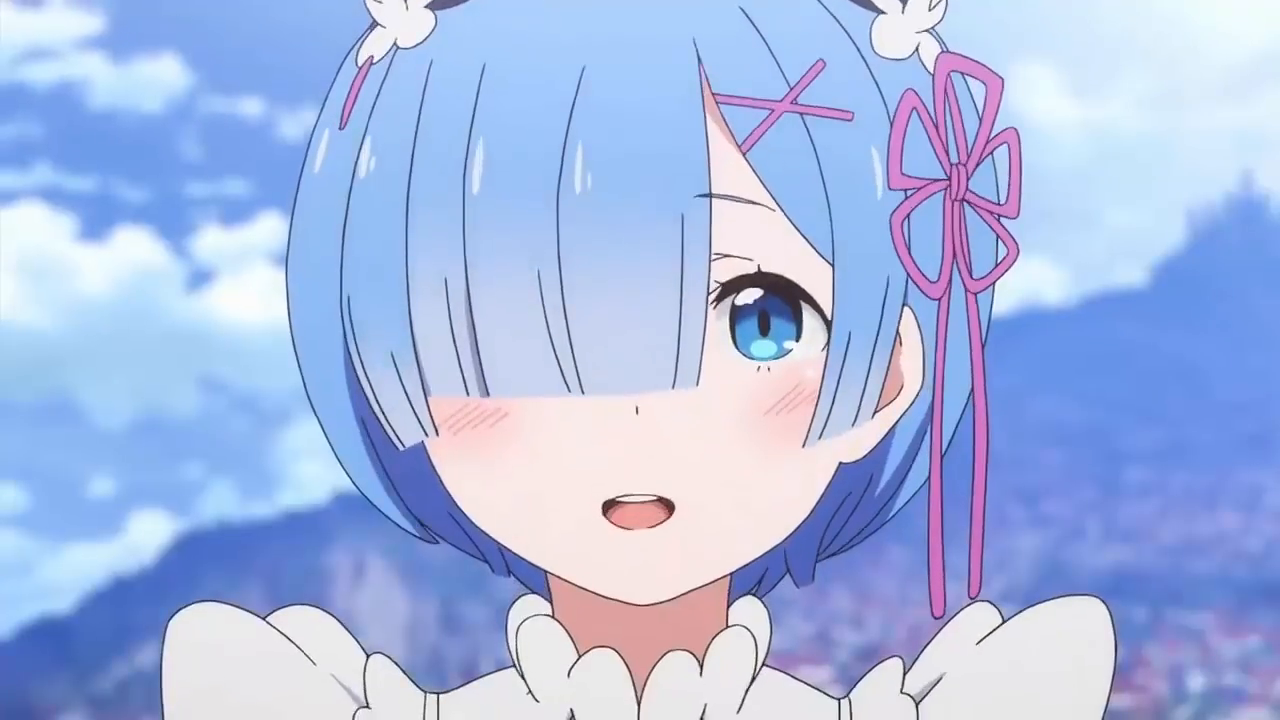REM: (283, 2, 1006, 612)
